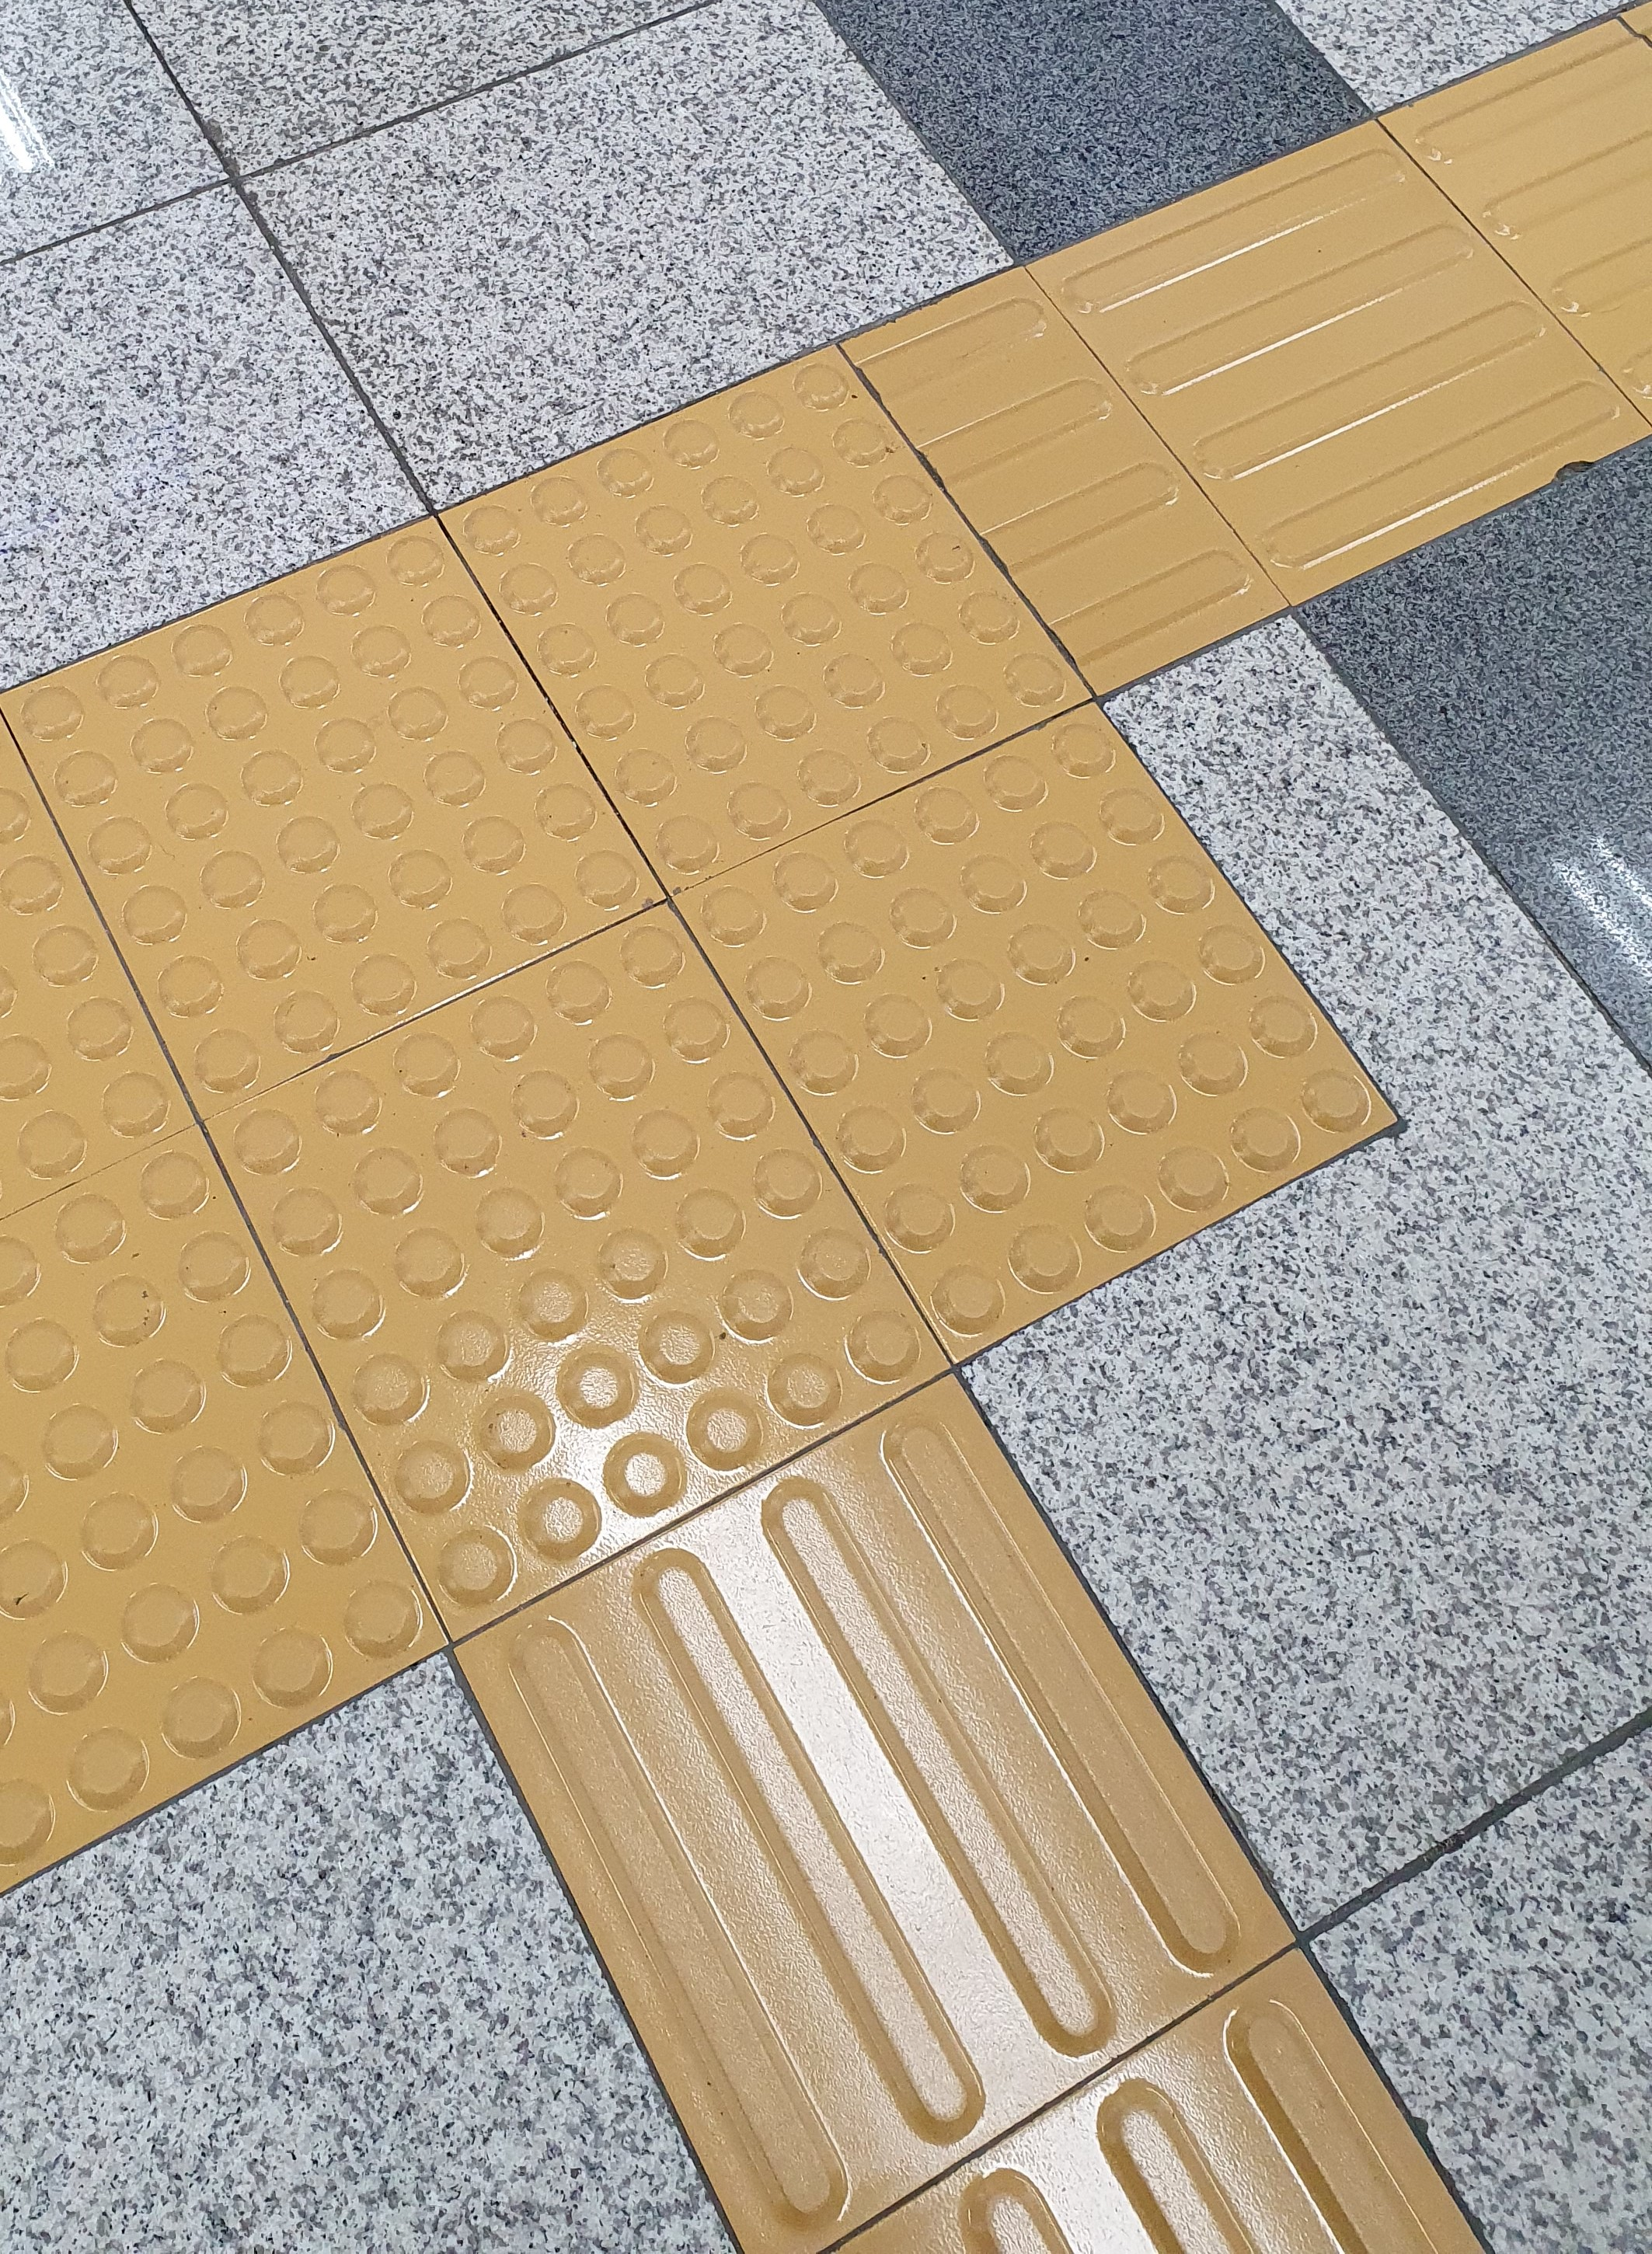guideBlock: (486, 1479, 1235, 2135), (954, 194, 1612, 628), (695, 1976, 1561, 2254), (1365, 68, 1652, 527)
warningBlock: (215, 1034, 945, 1556), (735, 733, 1326, 1283), (73, 581, 614, 1003), (44, 1148, 402, 1780), (525, 450, 990, 830), (0, 646, 170, 1164)
